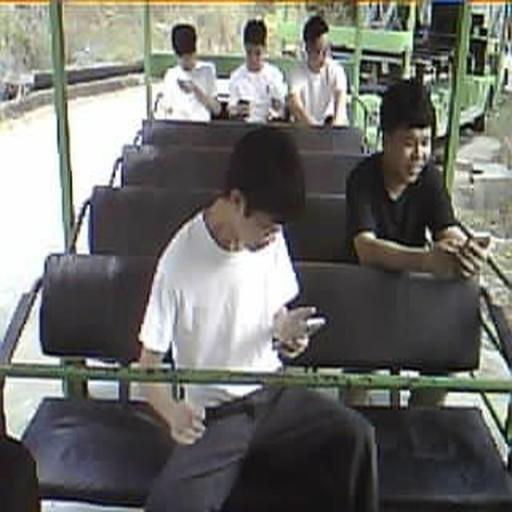persona: (135, 125, 379, 510), (344, 77, 492, 281), (287, 14, 350, 128), (226, 18, 289, 123), (157, 22, 222, 122)
